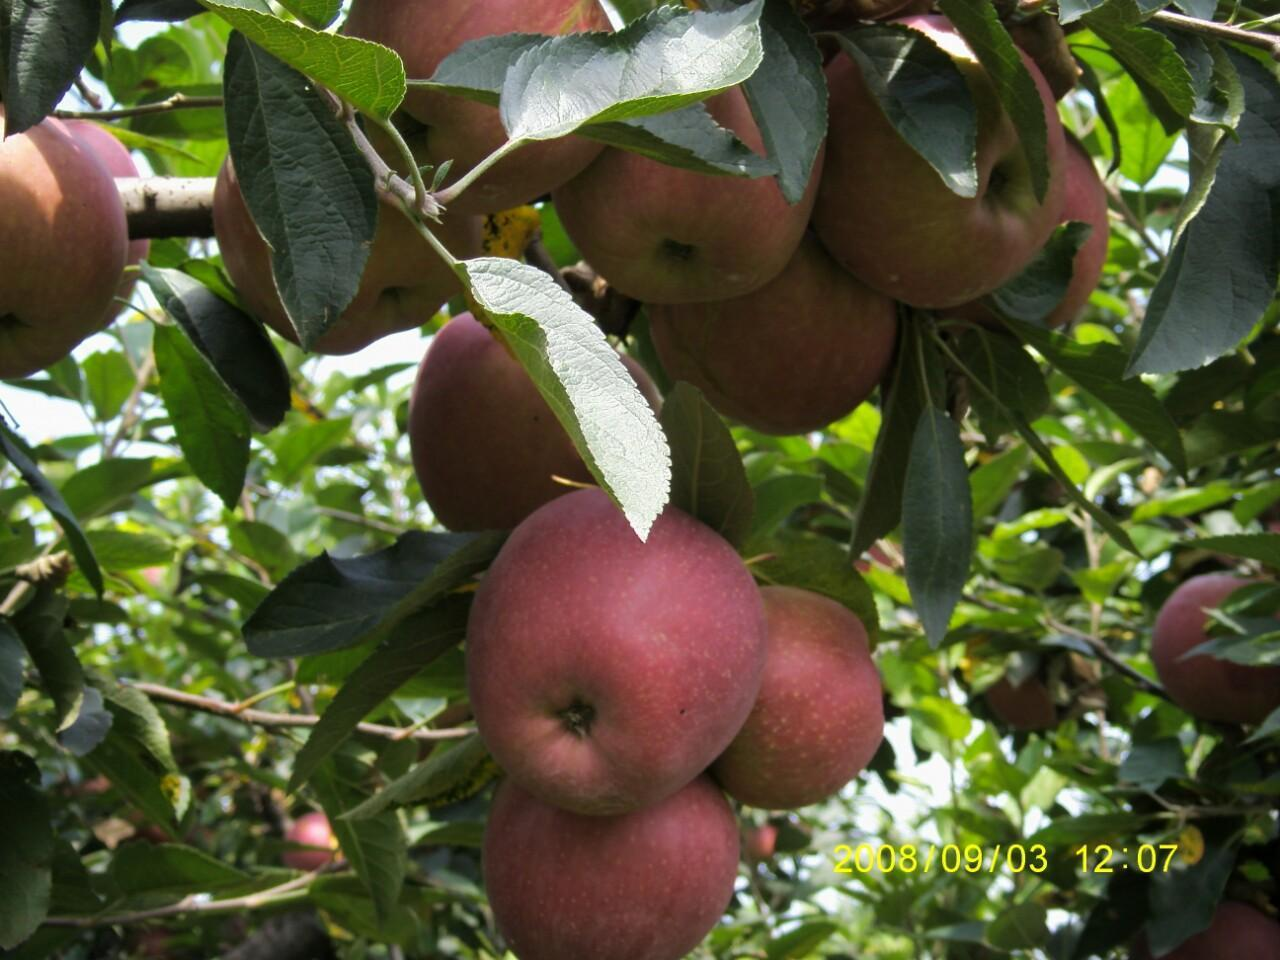apple: (468, 486, 770, 818), (800, 14, 1067, 302), (548, 64, 827, 302), (341, 3, 616, 213), (217, 139, 474, 356), (652, 238, 900, 435), (476, 771, 736, 957), (409, 313, 581, 543), (713, 589, 883, 814), (1, 115, 128, 386), (1148, 567, 1277, 723), (281, 807, 343, 868)
